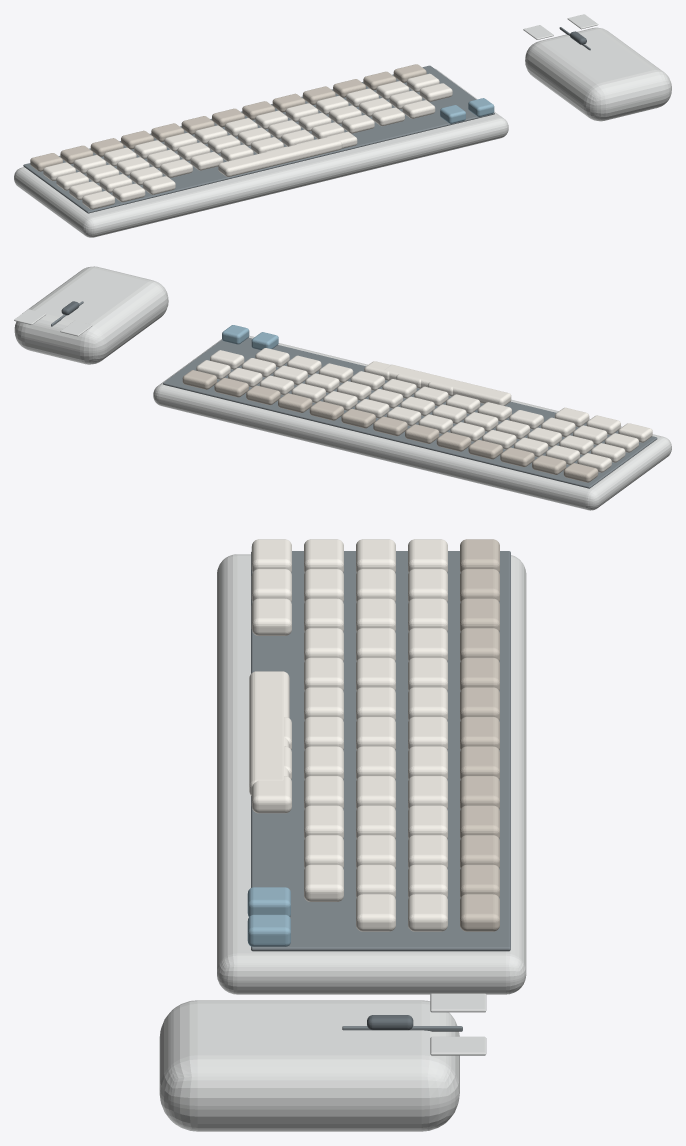
The model's file is keyboard-mouse.glb.
The picture shows the model from 3 angles, top to bottom: view 1: azimuth 30°, elevation 25°; view 2: azimuth 150°, elevation 25°; view 3: azimuth 270°, elevation 25°; orthographic projection. The views are drawn at different scales.
Parts seen in each view (by area): view 1: ivory_3, keyboard_chassis_0, mouse_shell_6, graphite2_1, sand_2, ivory_4, blue_5, silver_light_9; view 2: ivory_3, keyboard_chassis_0, mouse_shell_6, sand_2, graphite2_1, ivory_4, blue_5, silver_light_9; view 3: ivory_3, mouse_shell_6, graphite2_1, keyboard_chassis_0, sand_2, ivory_4, blue_5, silver_light_9.
Boxes of the visible parts, x1,y1,x2,y2 form: ivory_3: (43,73,452,209); keyboard_chassis_0: (14,68,508,237); mouse_shell_6: (525,27,671,121); graphite2_1: (23,65,494,213); sand_2: (30,64,426,171); ivory_4: (218,136,342,177); blue_5: (440,98,494,123); silver_light_9: (523,14,598,39); ivory_3: (196,348,652,472); keyboard_chassis_0: (153,335,671,510); mouse_shell_6: (14,266,168,364); sand_2: (182,370,598,482); graphite2_1: (163,337,657,488); ivory_4: (385,364,511,405); blue_5: (222,325,278,349); silver_light_9: (14,309,92,336); ivory_3: (251,539,447,931); mouse_shell_6: (159,1000,459,1131); graphite2_1: (251,551,510,951); keyboard_chassis_0: (217,554,526,994); sand_2: (460,539,499,931); ivory_4: (249,671,289,795); blue_5: (247,887,290,946); silver_light_9: (430,993,486,1055).
Bounding box in the file's own units: 4.31 × 0.3255 × 1.19.
